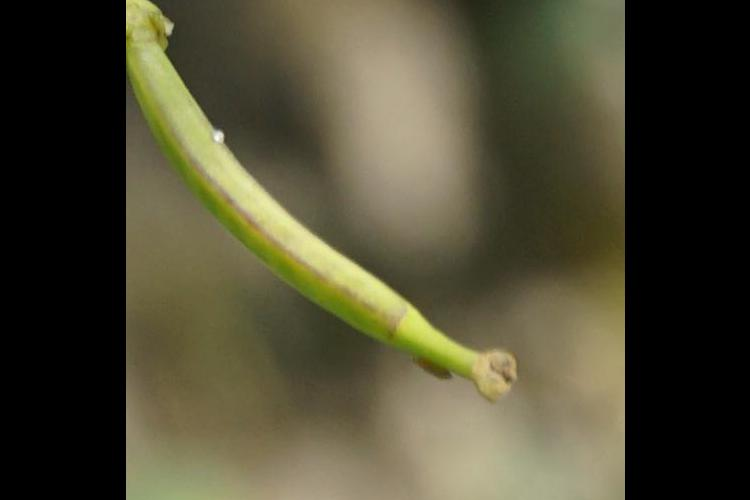pod: (135, 1, 528, 434)
